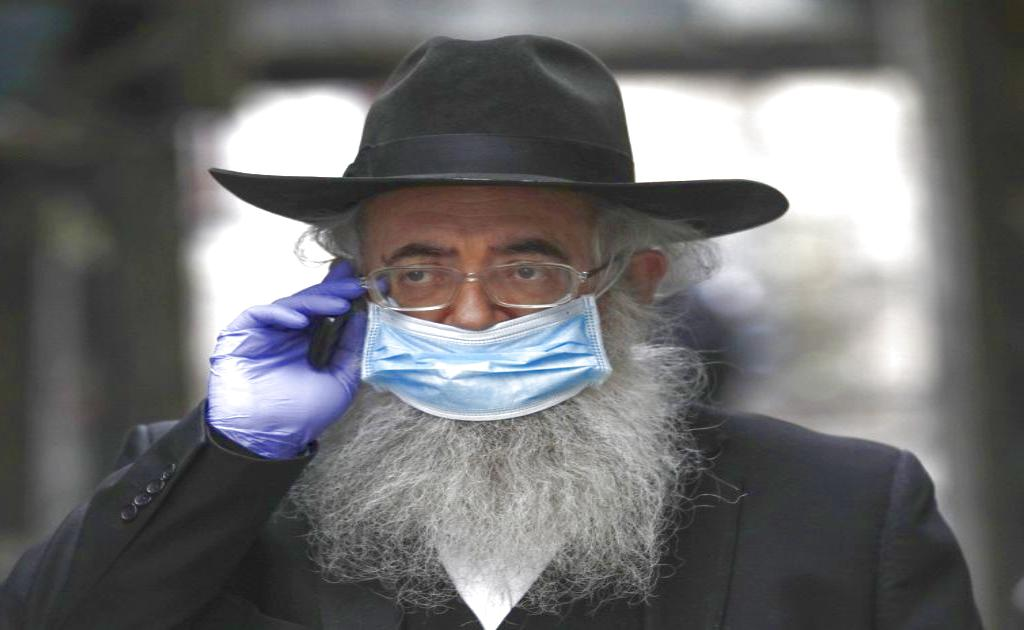mask_weared_incorrect: (339, 192, 662, 427)
